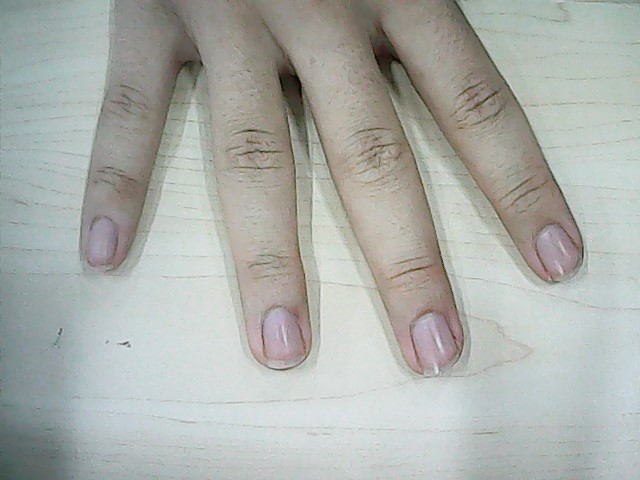nail: (409, 316, 463, 375), (535, 228, 584, 283), (263, 309, 302, 368), (88, 220, 113, 272)
